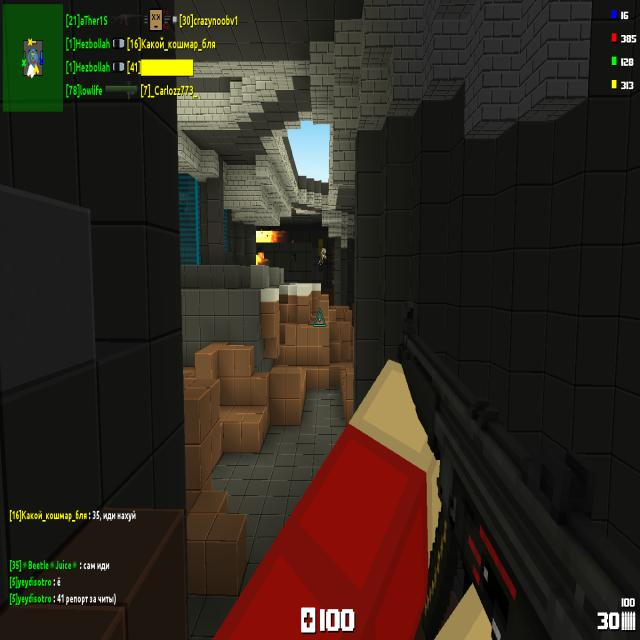enemy: (319, 247, 327, 265)
